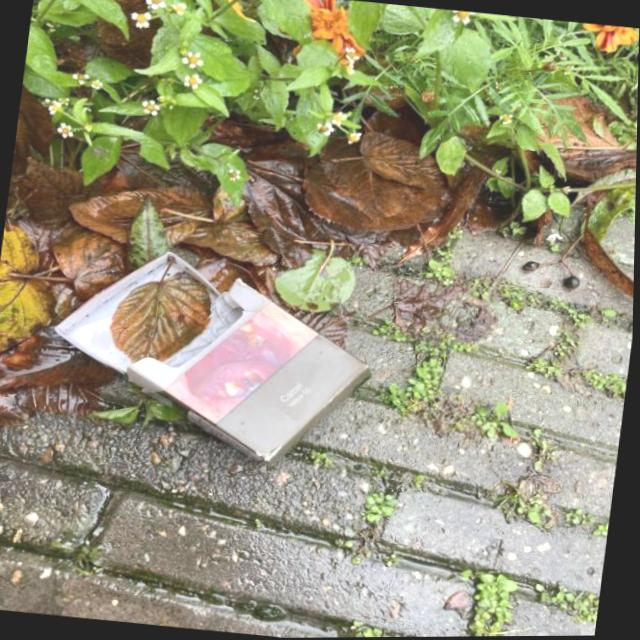Paper: (36, 235, 394, 482)
